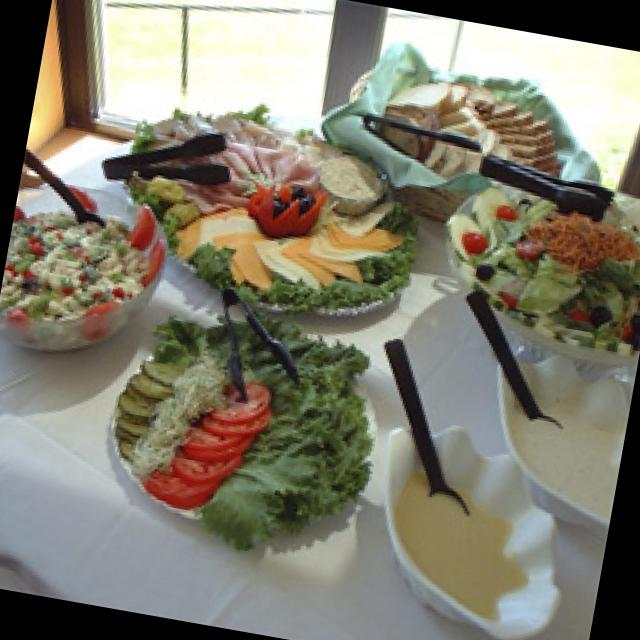2001: (67, 0, 640, 236)
basket crop: (335, 63, 596, 218)
bowl -X: (447, 176, 640, 360), (1, 180, 169, 350)
food procesor: (131, 102, 419, 306), (452, 188, 640, 336), (7, 207, 148, 320)
gravy boat: (389, 424, 565, 640), (501, 352, 630, 535)
loafs: (382, 80, 564, 189)
sauce bottle: (514, 395, 624, 515)
spoon: (387, 337, 479, 532), (469, 289, 566, 446), (28, 150, 112, 238)
table -X: (0, 123, 640, 640)
tongs occluded: (481, 149, 620, 222), (224, 286, 300, 396), (105, 131, 233, 184), (368, 110, 484, 156)
vegetable: (117, 314, 372, 549)
